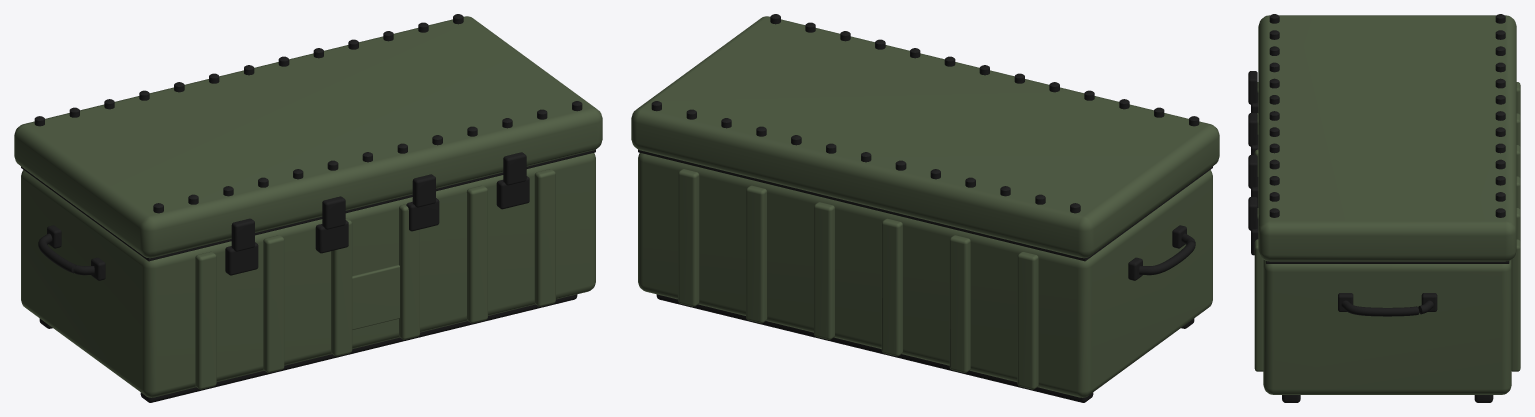
File: SRZ_ArtCont_20.fbx
3 views of the same model, side by side, from view 1: azimuth 30°, elevation 25°; view 2: azimuth 150°, elevation 25°; view 3: azimuth 270°, elevation 25° (orthographic). The views are drawn at different scales.
Visible parts, largest first — view 1: SRZ_ArtCont_20; view 2: SRZ_ArtCont_20; view 3: SRZ_ArtCont_20.
Part boxes in pixels (x1,y1,x2,y2): SRZ_ArtCont_20: (14, 14, 602, 402); SRZ_ArtCont_20: (631, 14, 1219, 402); SRZ_ArtCont_20: (1248, 14, 1520, 402).
Size of what is drawn, in the model's own units: 90.88 by 34.1 by 43.8.
